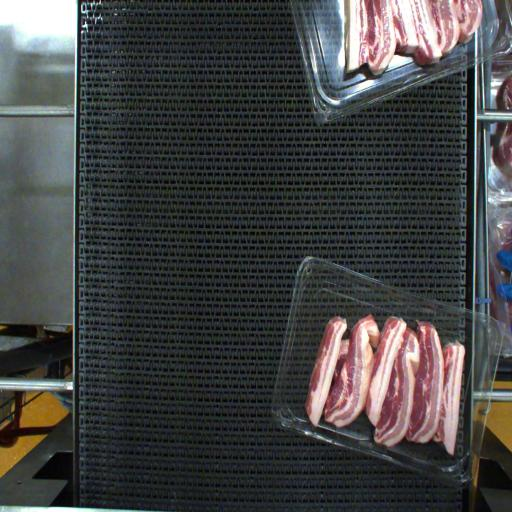packaging-error: (294, 406, 402, 473)
